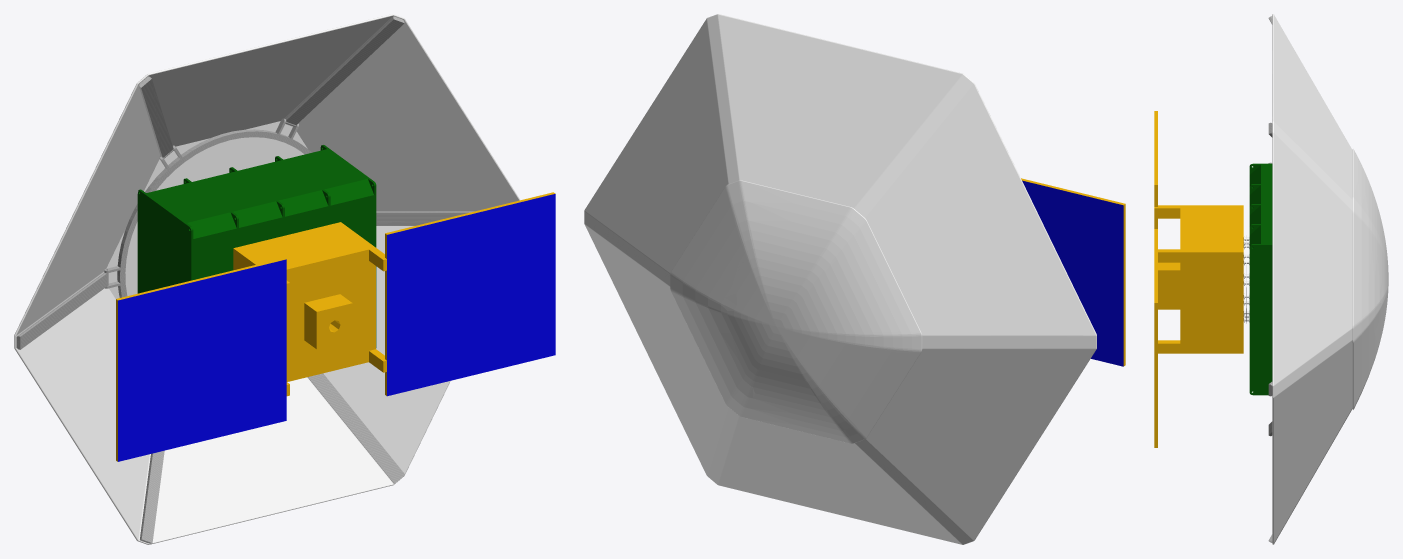
Rendered from BFS 24U_deployé_origine au nez.dae.
The picture shows the model from 3 angles, left to right: view 1: azimuth 30°, elevation 25°; view 2: azimuth 150°, elevation 25°; view 3: azimuth 270°, elevation 25°; orthographic projection. The views are drawn at different scales.
Parts seen in each view (by area): view 1: Component (×9); view 2: Component (×4); view 3: Component (×5).
Boxes of the visible parts, bbox=[...] form: Component (×9): bbox=[14, 14, 555, 544]; Component (×4): bbox=[584, 14, 1125, 544]; Component (×5): bbox=[1154, 14, 1388, 544].
Size of the model in its own units: 56238 by 24763 by 49405.
5 materials, 1 textured.
